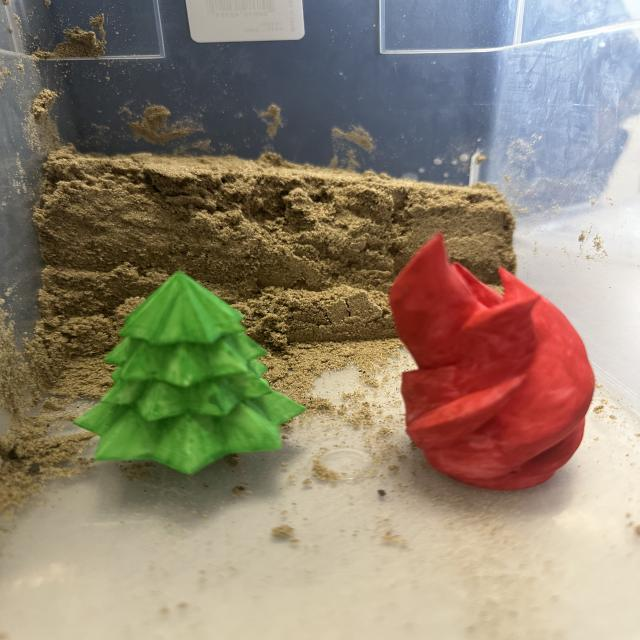fire: (386, 231, 596, 491)
tree: (71, 270, 307, 476)
